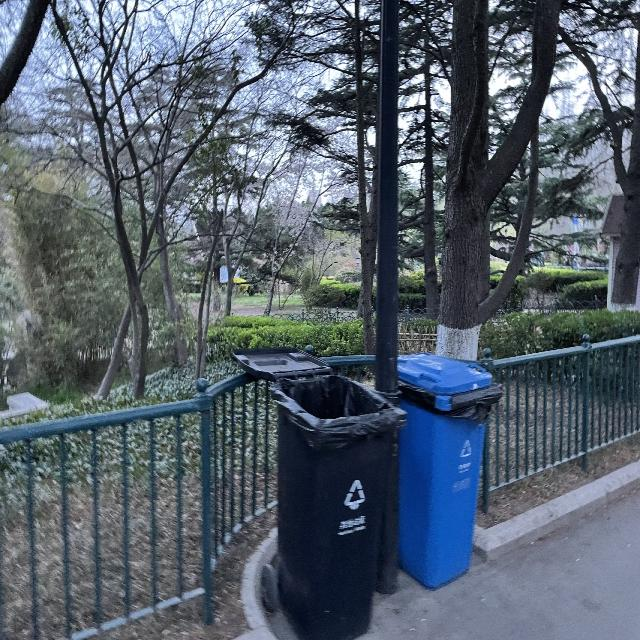garbage_bin: (270, 374, 404, 639), (394, 352, 500, 588)
